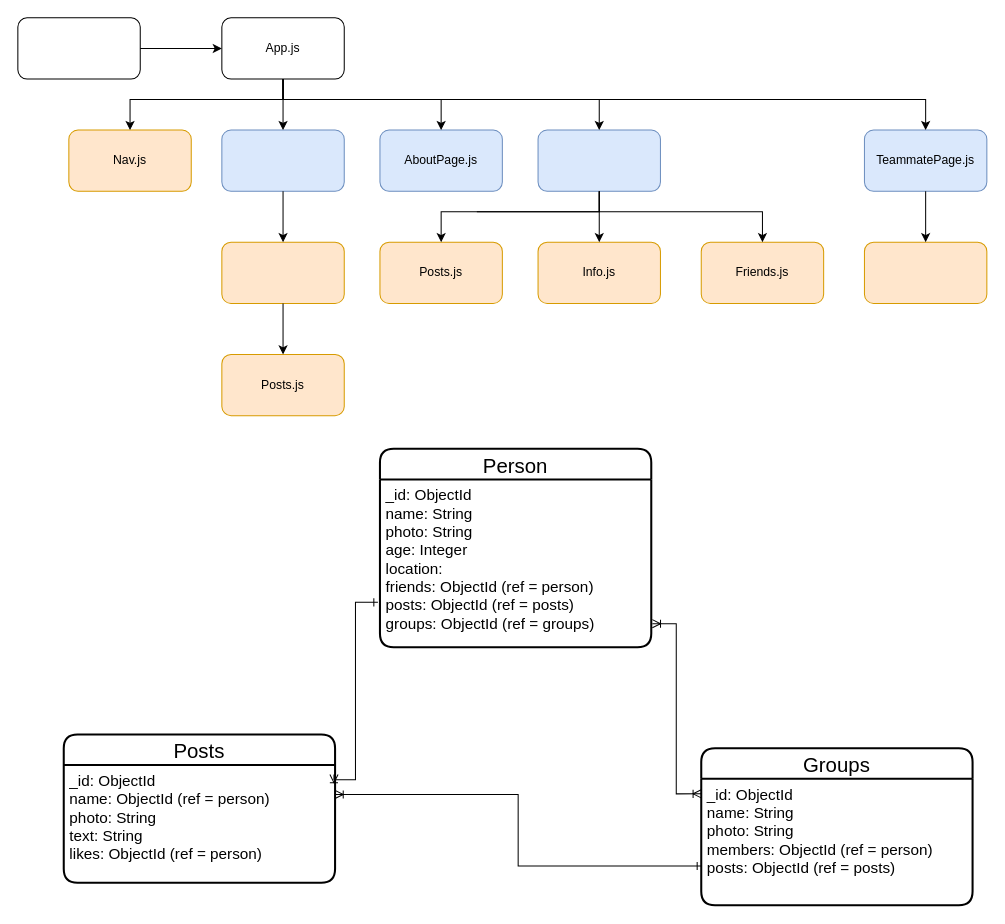
This 1005x924 diagram has some shape labels left out. The shapes that lost their labels are listed below. From the top down, each one's centre as x and y in pixels, then its label:
[78,48]: index.js
[282,160]: HomePage.js
[598,160]: ProfilePage.js
[282,272]: NewsFeed.js
[925,272]: Person.js
